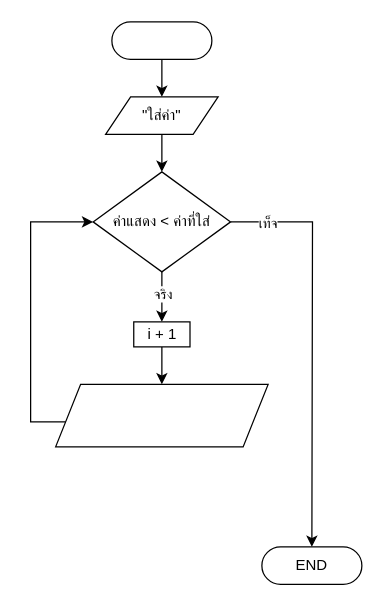
This 384x606 diagram has some shape labels left out. The centre of each missing label's shape, as x and y in pixels:
"[ ค่าแสดง ] Hello World": (161,415)
START: (161,40)
